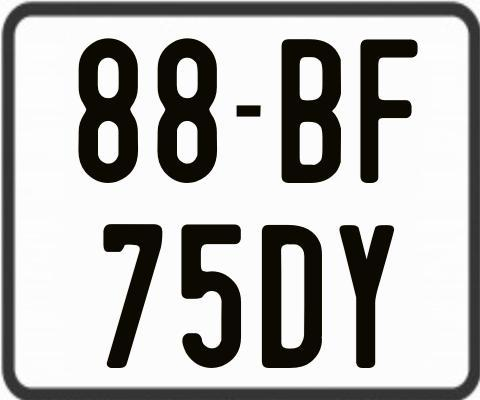5: (180, 223, 240, 367)
7: (103, 223, 168, 372)
8: (75, 37, 140, 187), (156, 36, 217, 185)
B: (282, 39, 341, 186)
D: (261, 224, 326, 367)
F: (357, 38, 419, 183)
Y: (337, 222, 392, 368)
